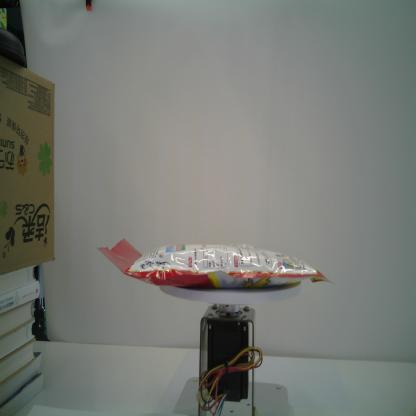Instant Drink: (94, 236, 336, 293)
